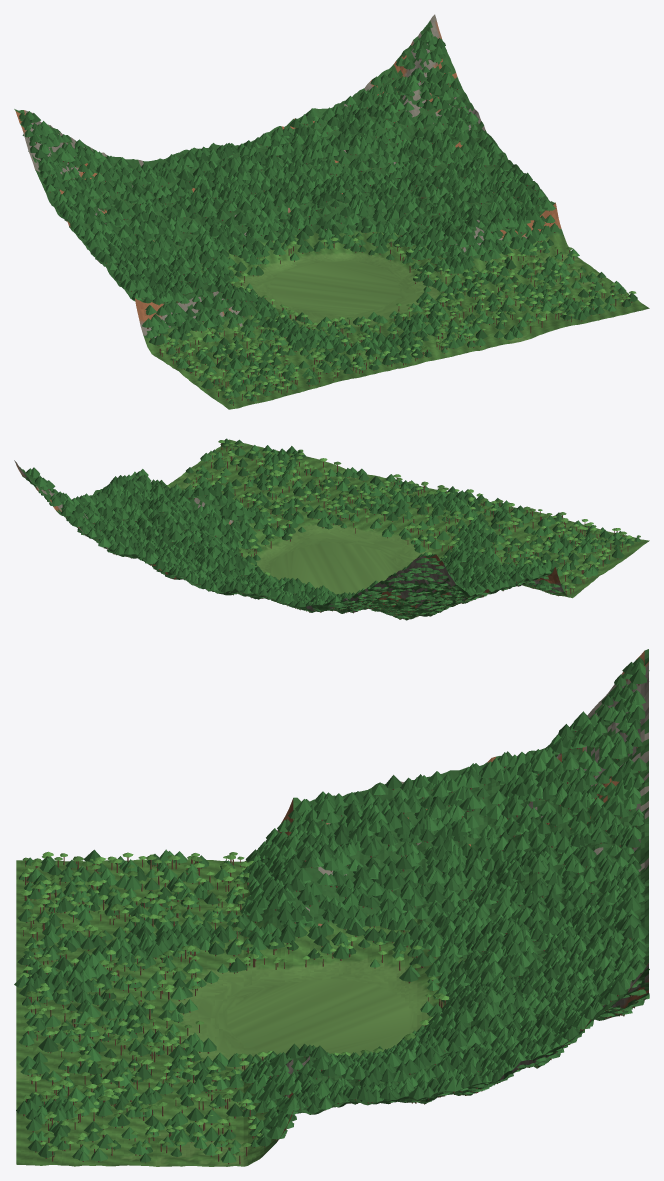
The model's file is landscape.glb.
The picture shows the model from 3 angles, top to bottom: view 1: azimuth 30°, elevation 25°; view 2: azimuth 150°, elevation 25°; view 3: azimuth 270°, elevation 25°; orthographic projection. The views are drawn at different scales.
Parts seen in each view (by area): view 1: Trees, Landscape; view 2: Trees, Landscape; view 3: Trees, Landscape.
Part boxes in pixels (x1,y1,x2,y2): Trees: (19,31,637,405); Landscape: (14,14,649,409); Trees: (26,438,640,619); Landscape: (14,439,649,620); Trees: (14,657,649,1164); Landscape: (16,649,648,1166).
Bounding box in the file's own units: 260 × 87.89 × 231.
